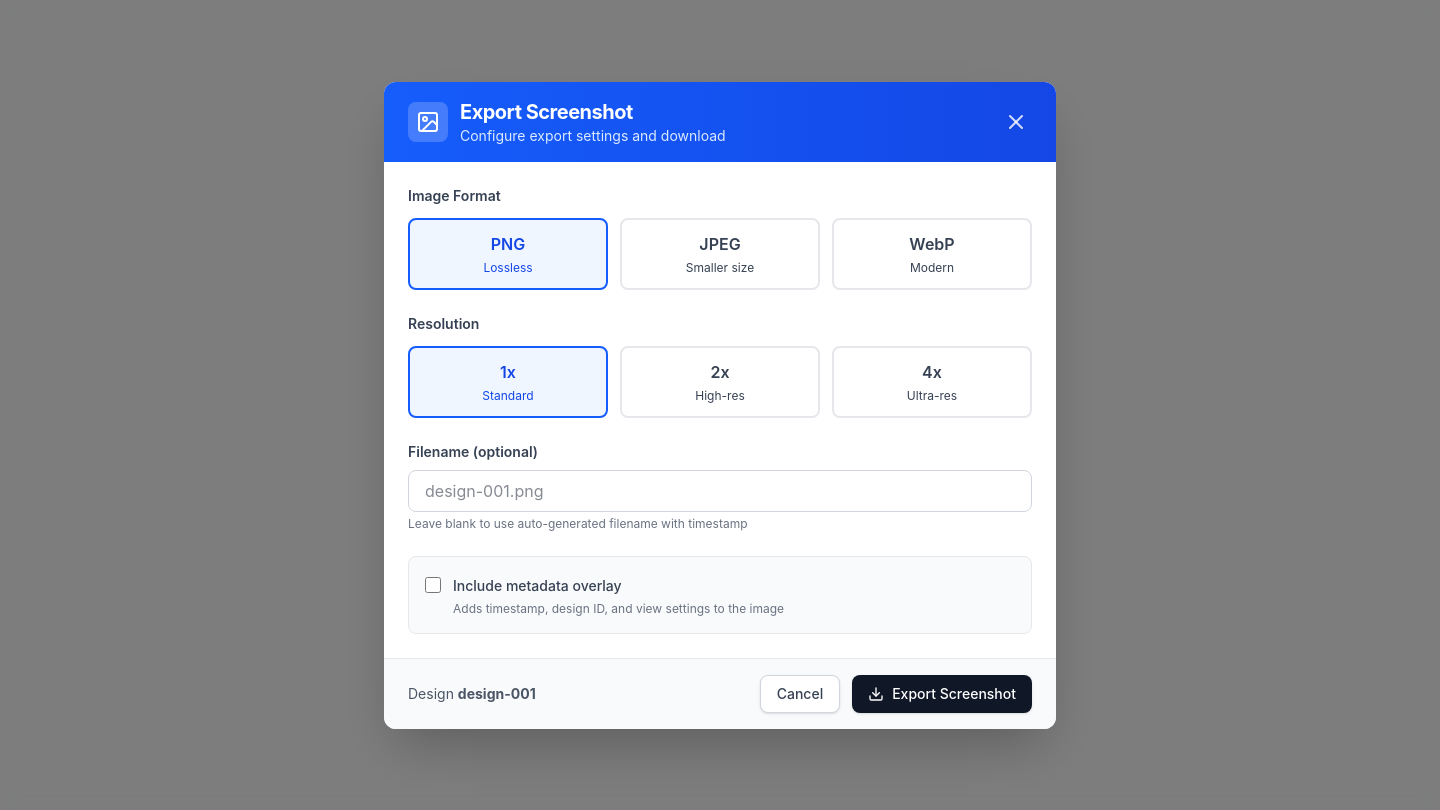
Test: ExportDialog - Extended Coverage › State Management - Resolution Scale › should show warning for high resolution exports
Step 1. Click the button "4x Ultra-res" → (932, 382), box [832, 346, 1032, 418]
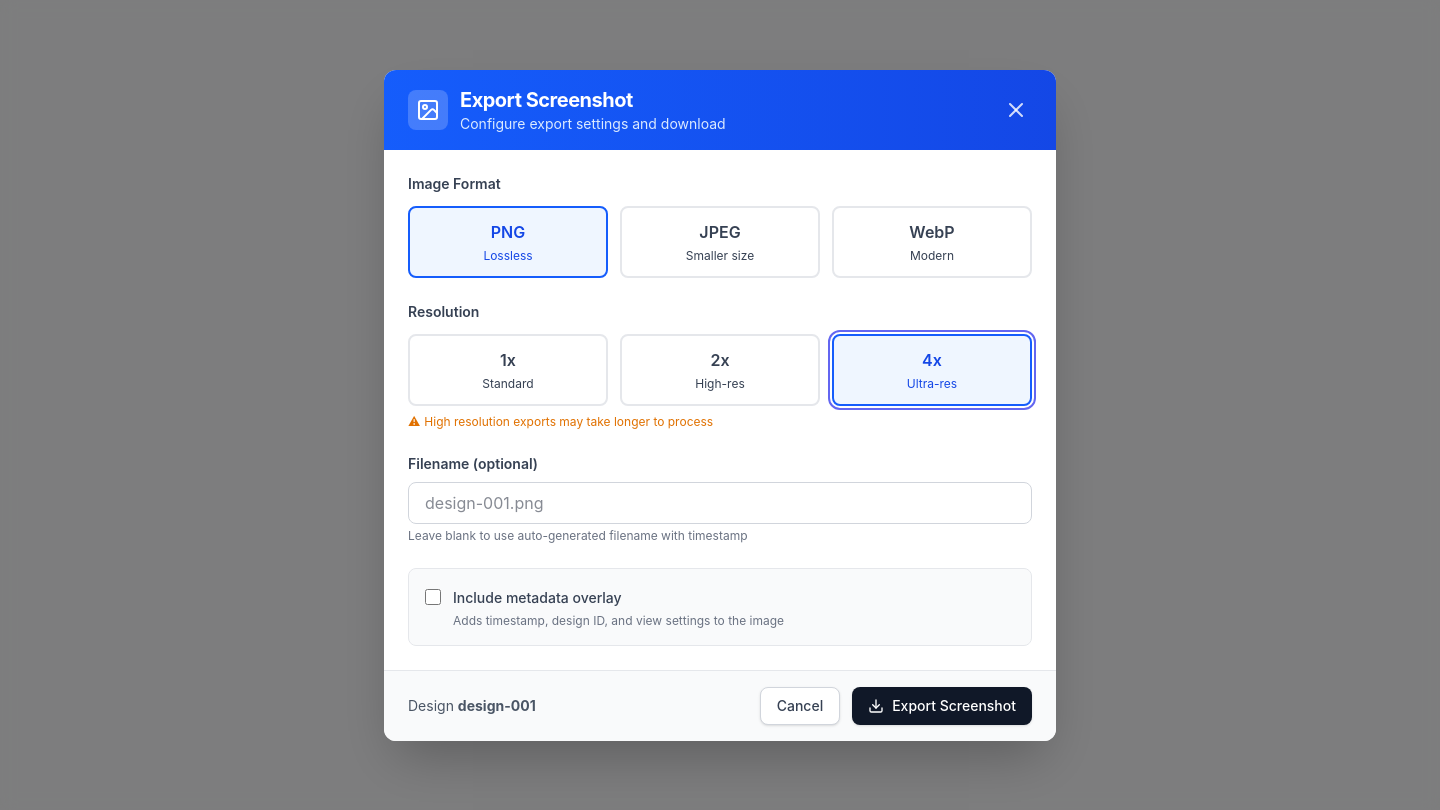
expect the text "High resolution exports may take longer to process" is shown: met, box [424, 414, 713, 430]
